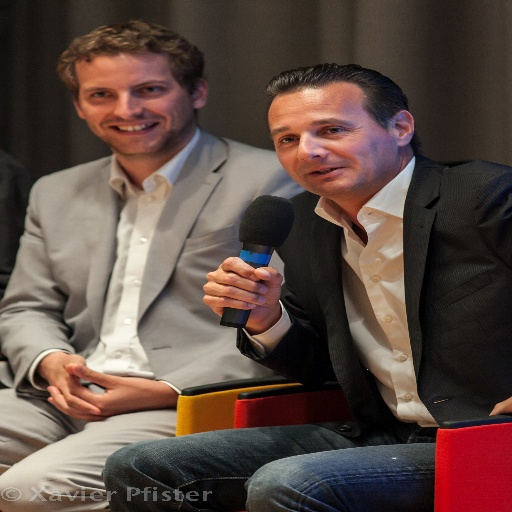hand: (43, 362, 176, 421), (200, 251, 297, 328), (38, 351, 102, 421), (487, 395, 511, 417)
